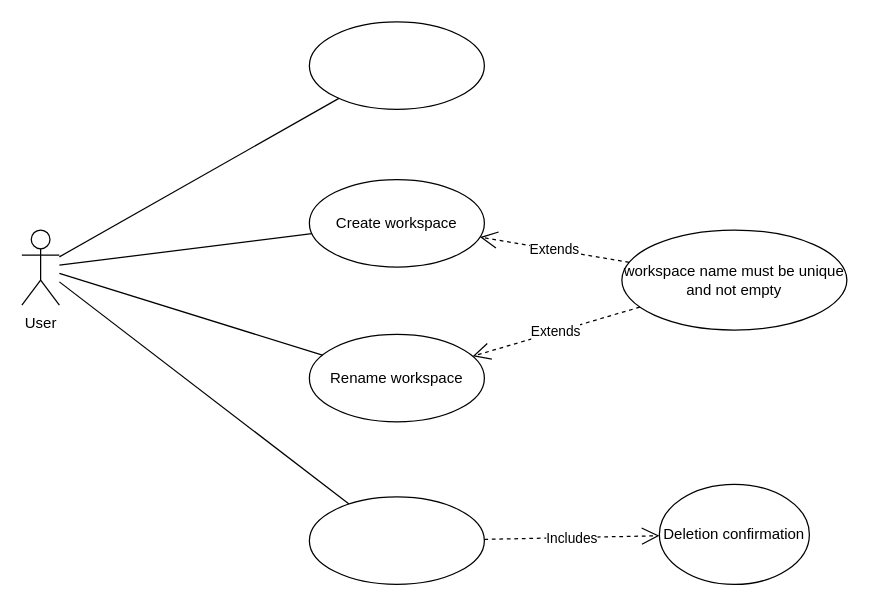
Some shapes in this 869 by 606 pixel diagram are drawn without their labels. The centre of each missing label's shape, as x and y in pixels:
"Delete workspace" goes at point (396, 540).
"View workspace" goes at point (396, 65).
